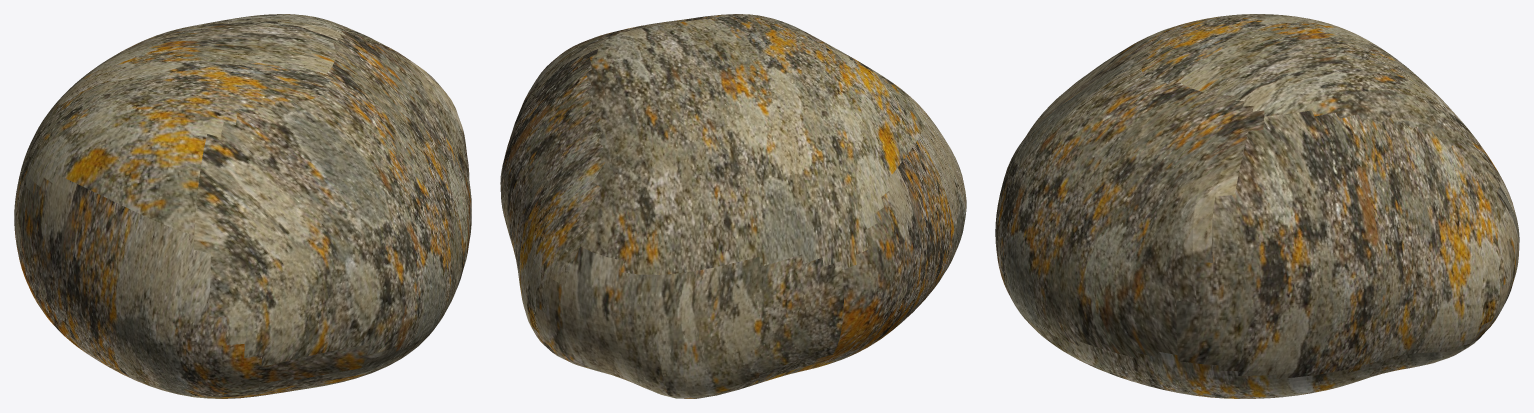
File: stone2.fbx
3 renders of one model, left to right at view 1: azimuth 30°, elevation 25°; view 2: azimuth 150°, elevation 25°; view 3: azimuth 270°, elevation 25°, orthographic. The views are drawn at different scales.
Parts seen in each view (by area): view 1: Sphere; view 2: Sphere; view 3: Sphere.
Boxes of the visible parts, box(x1,y1,x2,y2) form: Sphere: box(14, 14, 471, 398); Sphere: box(500, 14, 966, 398); Sphere: box(995, 14, 1519, 398).
Size of the model in its own units: 57.5 by 40.32 by 63.33.
Materials: 1 (1 with a texture image).
